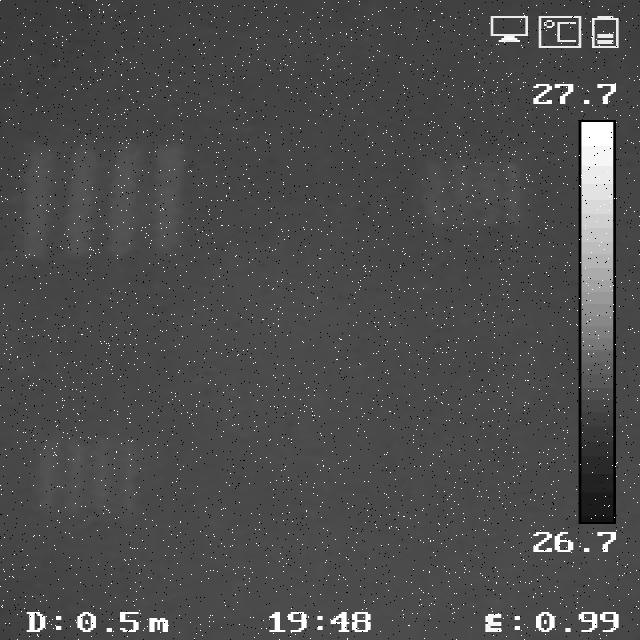threshold 4-bar target: (16, 143, 181, 259), (34, 438, 142, 517), (421, 154, 527, 227)
